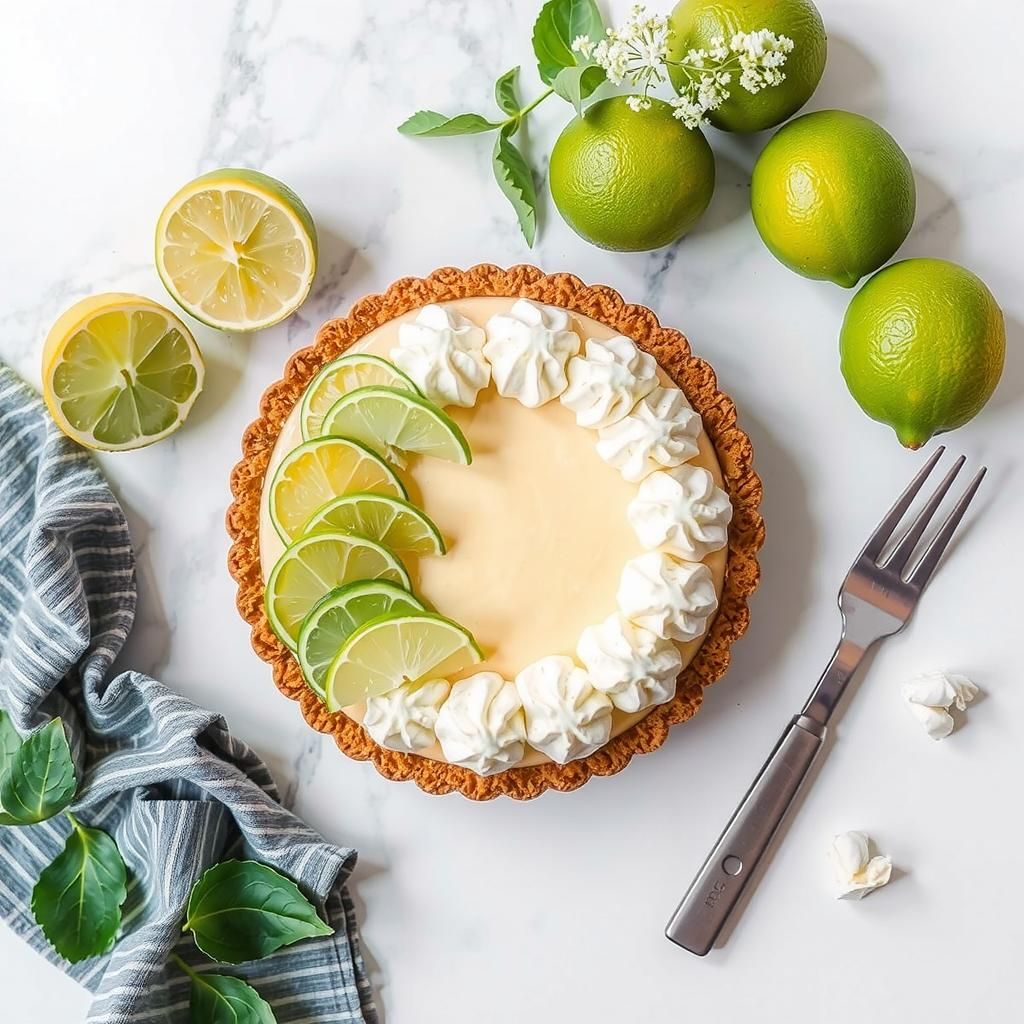pie: (217, 256, 774, 813)
